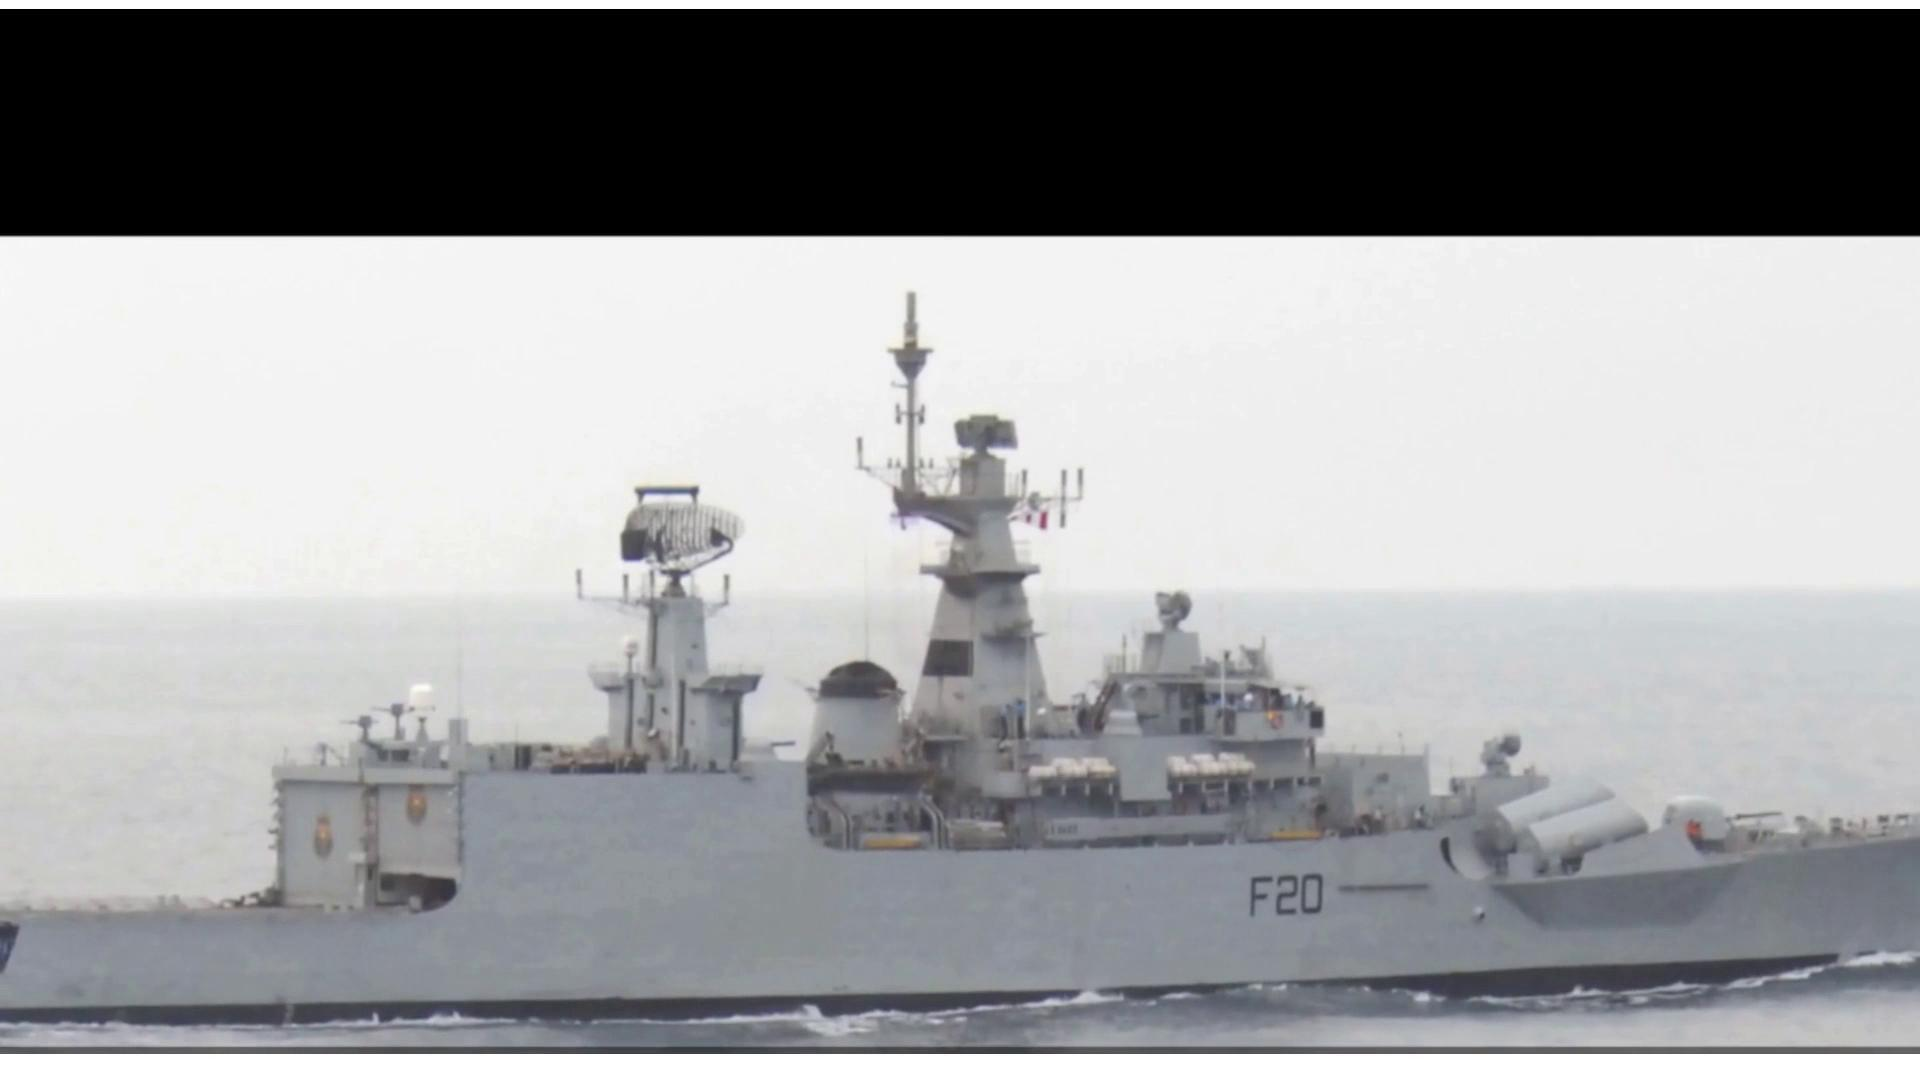OCR: (1228, 862, 1333, 931)
